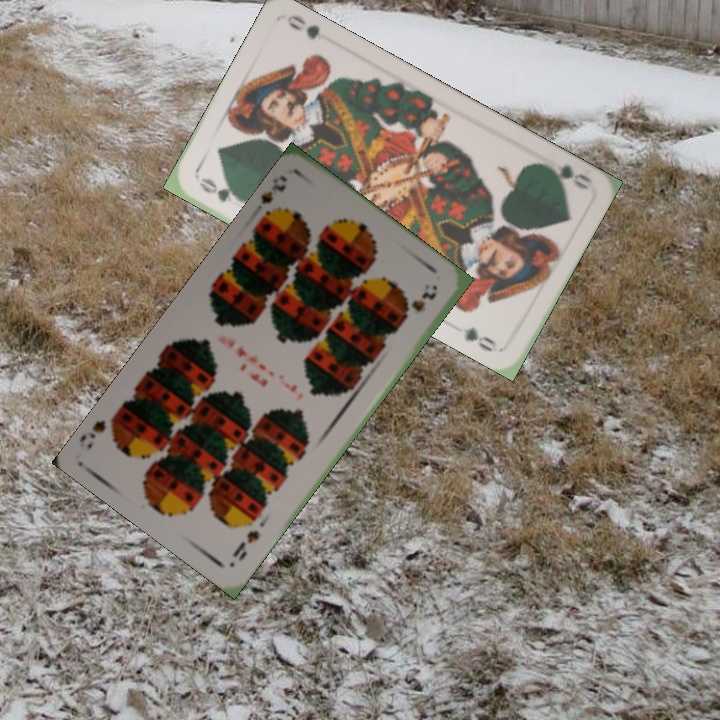GO: (534, 152, 594, 192), (194, 173, 250, 206)
S9: (256, 171, 290, 225), (228, 526, 262, 564)
